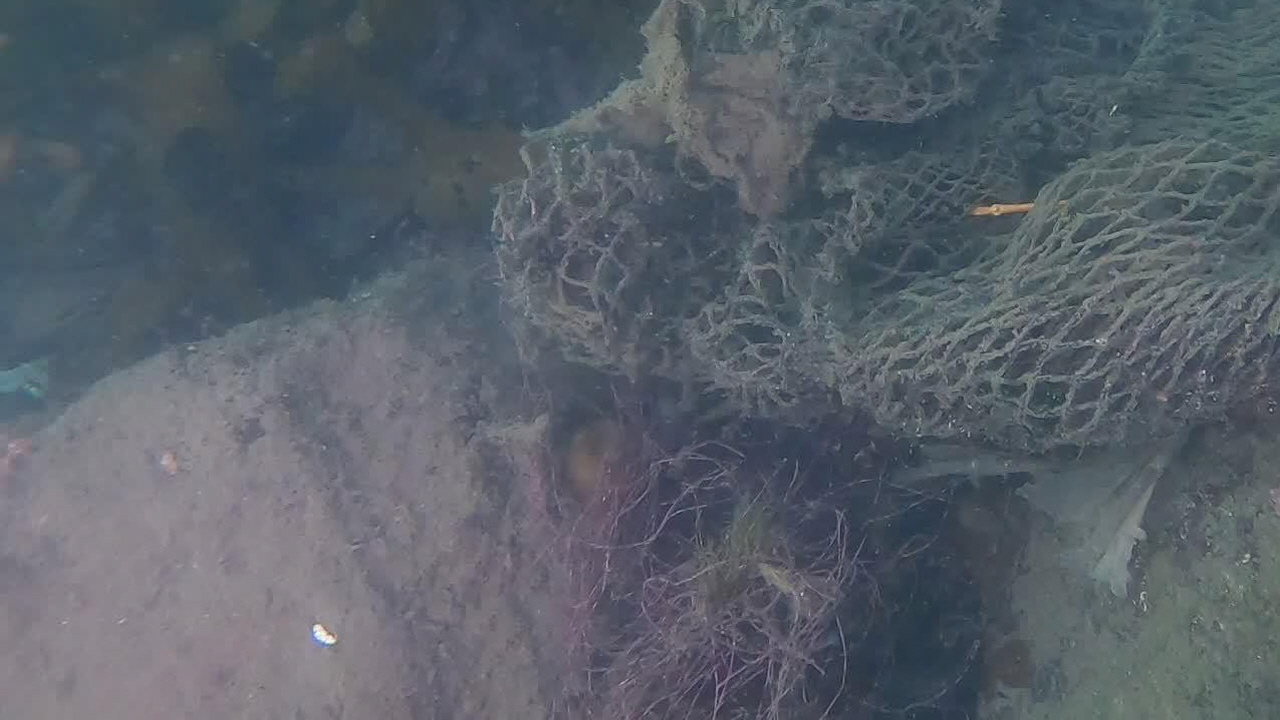fish net: (493, 0, 1280, 444)
